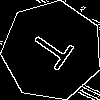T: (27, 25, 83, 77)
